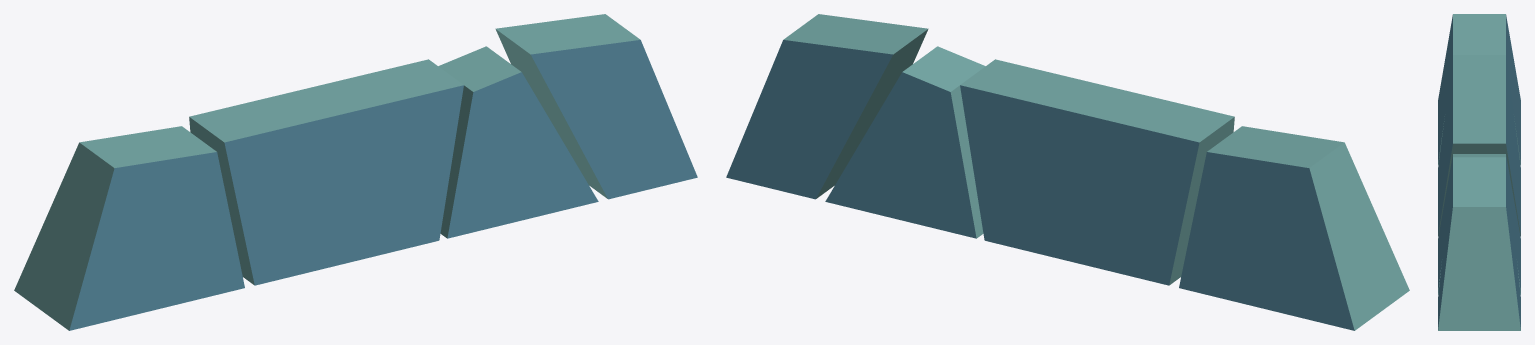
File: mod_wall_breakable.fbx
3 renders of one model, left to right at view 1: azimuth 30°, elevation 25°; view 2: azimuth 150°, elevation 25°; view 3: azimuth 270°, elevation 25°, orthographic. The views are drawn at different scales.
Visible parts, largest first — view 1: mod_platform.001_cell.001; view 2: mod_platform.001_cell.001; view 3: mod_platform.001_cell.001.
Boxes of the visible parts, x1,y1,x2,y2 form: mod_platform.001_cell.001: (14,14,697,330); mod_platform.001_cell.001: (726,14,1409,330); mod_platform.001_cell.001: (1438,14,1520,330).
Bounding box in the file's own units: 310 × 72.67 × 47.15.
